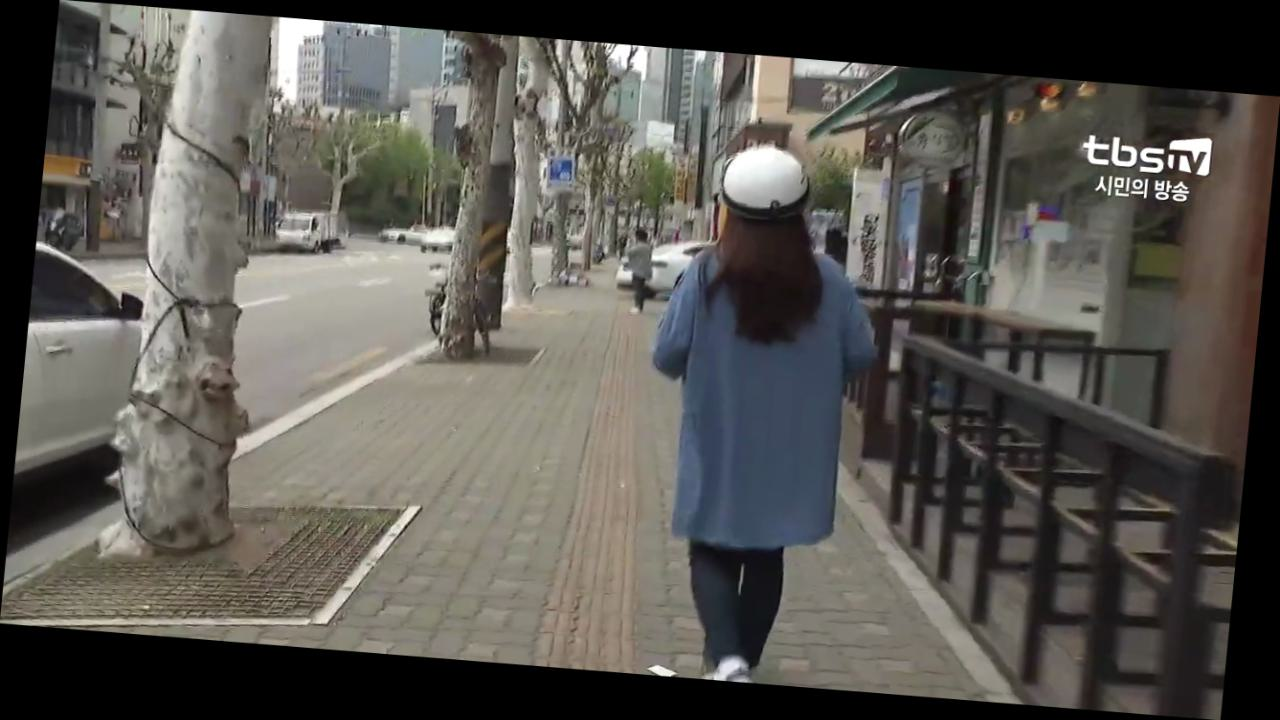helmet: (617, 135, 901, 691)
